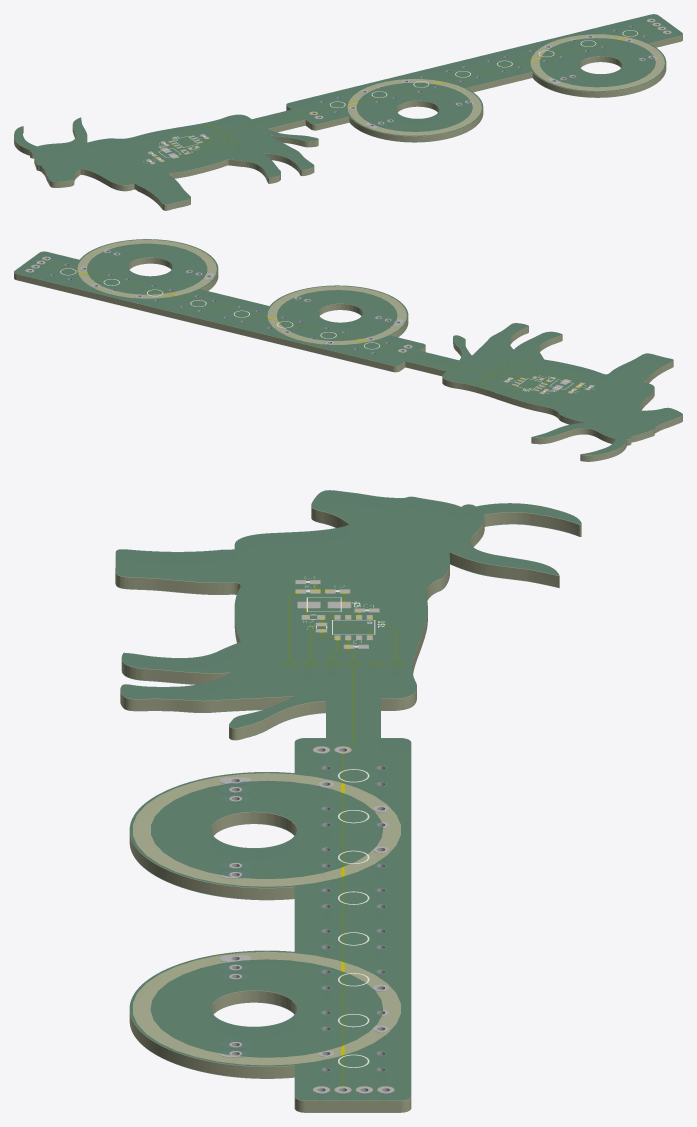
Rendered from ox-vox-add-on.glb.
3 renders of one model, top to bottom at view 1: azimuth 30°, elevation 25°; view 2: azimuth 150°, elevation 25°; view 3: azimuth 270°, elevation 25°, orthographic. The views are drawn at different scales.
Parts seen in each view (by area): view 1: =>[0:1:1:9], =>[0:1:1:7], =>[0:1:1:2], =>[0:1:1:5]; view 2: =>[0:1:1:9], =>[0:1:1:7], =>[0:1:1:2], =>[0:1:1:5]; view 3: =>[0:1:1:9], =>[0:1:1:7], =>[0:1:1:2], =>[0:1:1:5].
Boxes of the visible parts, x1=… form: =>[0:1:1:9]: x1=14, y1=15, x2=682, y2=210; =>[0:1:1:7]: x1=14, y1=14, x2=682, y2=210; =>[0:1:1:2]: x1=146, y1=19, x2=671, y2=164; =>[0:1:1:5]: x1=143, y1=30, x2=637, y2=162; =>[0:1:1:9]: x1=14, y1=239, x2=682, y2=461; =>[0:1:1:7]: x1=14, y1=239, x2=682, y2=461; =>[0:1:1:2]: x1=26, y1=248, x2=594, y2=394; =>[0:1:1:5]: x1=60, y1=268, x2=594, y2=393; =>[0:1:1:9]: x1=115, y1=491, x2=581, y2=1112; =>[0:1:1:7]: x1=115, y1=490, x2=581, y2=1112; =>[0:1:1:2]: x1=220, y1=580, x2=403, y2=1093; =>[0:1:1:5]: x1=303, y1=576, x2=385, y2=1067.
Size of the model in its own units: 0.1711 by 0.00166 by 0.0552.
Materials: 4 (4 with a texture image).
